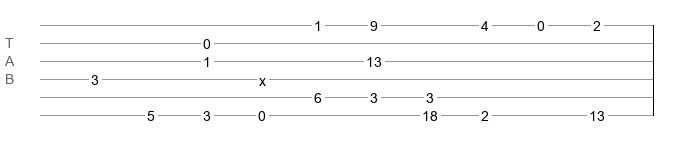0: (203, 36, 211, 46), (258, 108, 266, 118), (537, 18, 545, 28)
1: (203, 54, 211, 64), (314, 18, 322, 28)
13: (366, 54, 382, 64), (589, 108, 605, 118)
18: (422, 108, 438, 118)
2: (481, 108, 489, 118), (593, 18, 601, 28)
3: (91, 72, 99, 82), (203, 108, 211, 118), (370, 90, 378, 100), (426, 90, 434, 100)
4: (481, 18, 489, 28)
5: (147, 108, 155, 118)
6: (314, 90, 322, 100)
9: (370, 18, 378, 28)
x: (259, 73, 266, 81)
